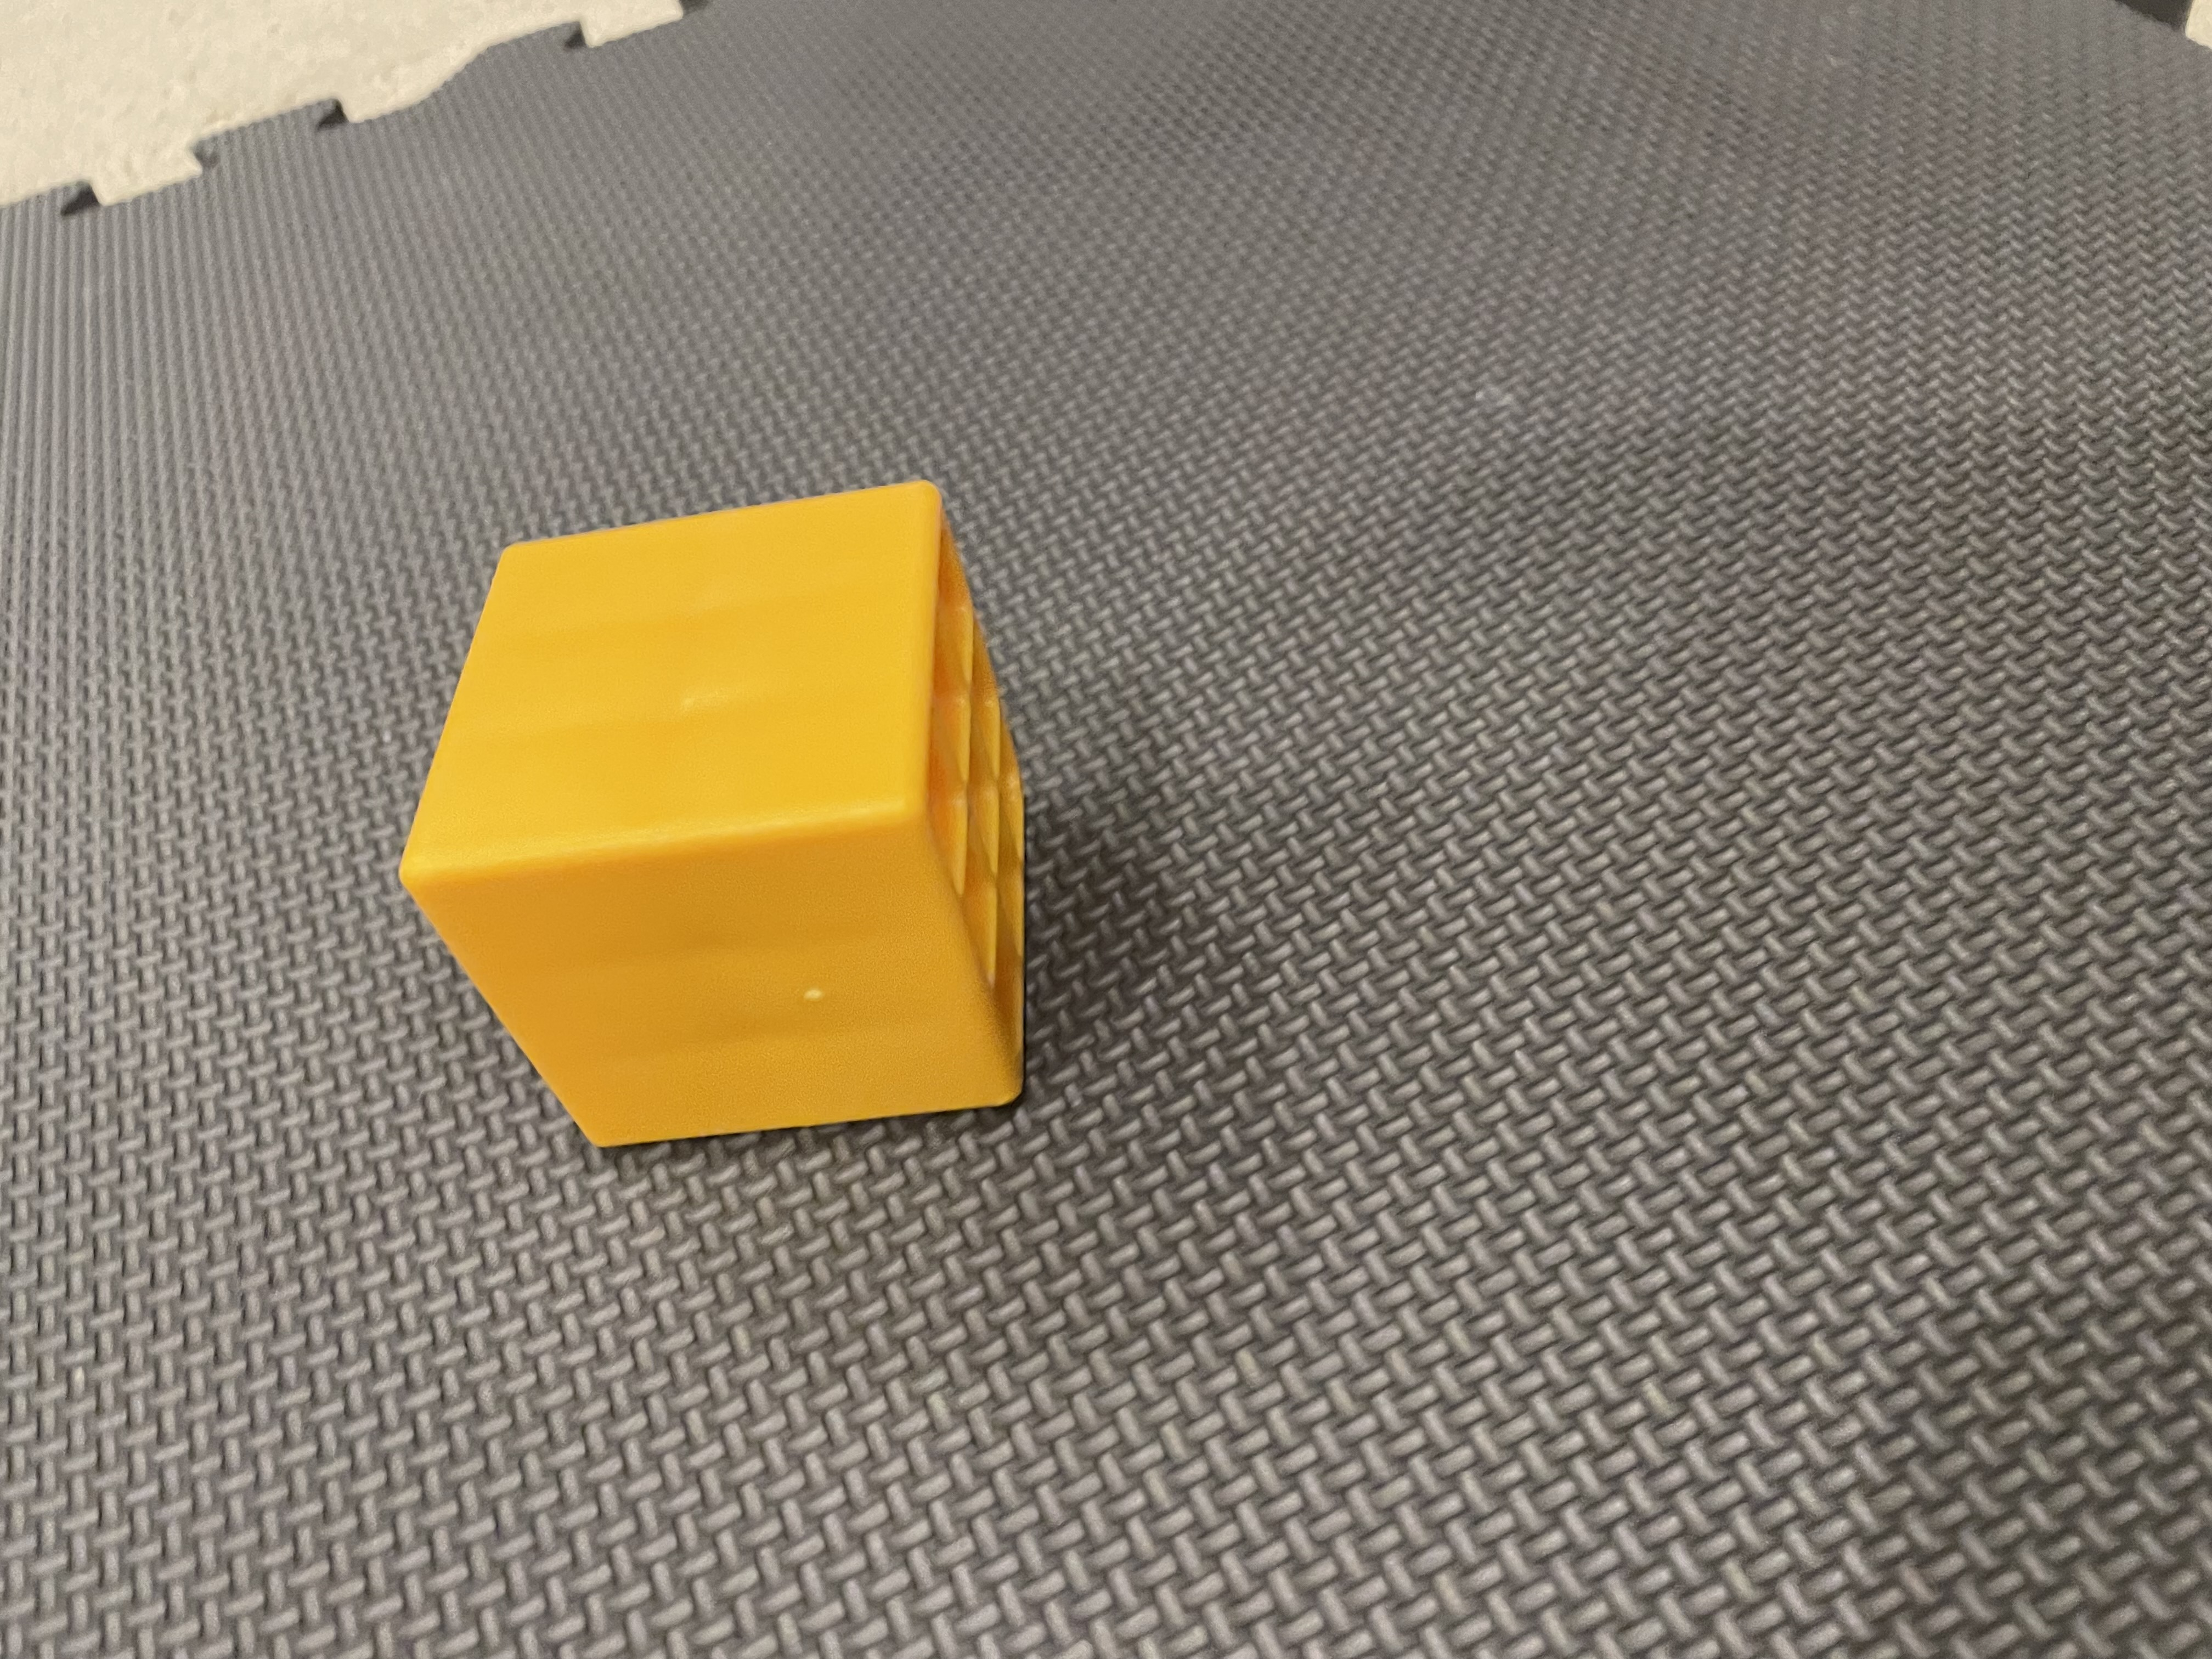cube: (340, 437, 1151, 1178)
